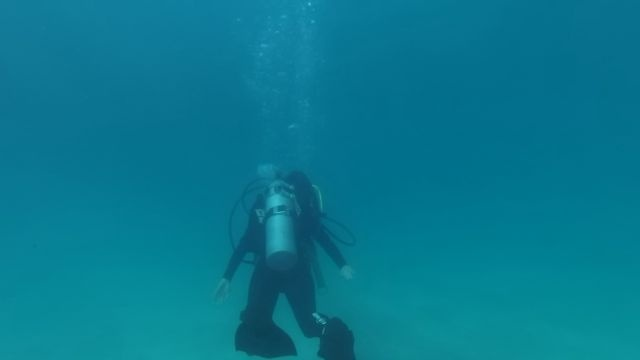Diver: (198, 152, 364, 359)
Hand: (324, 254, 358, 300), (208, 273, 237, 305)
